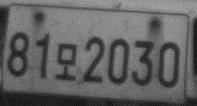0: (157, 40, 181, 89), (107, 38, 129, 86)
1: (34, 32, 52, 80)
2: (82, 36, 105, 84)
3: (130, 40, 155, 86)
8: (6, 31, 30, 77)
모: (54, 42, 78, 83)
